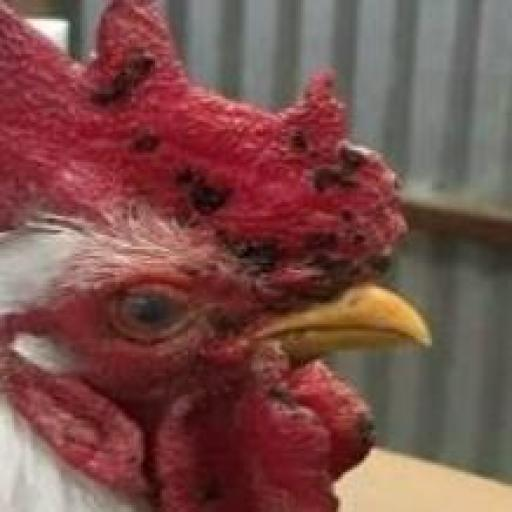disease: (285, 104, 411, 312), (208, 220, 296, 306), (80, 47, 158, 117), (178, 145, 240, 233), (342, 391, 390, 482), (129, 122, 167, 160)
